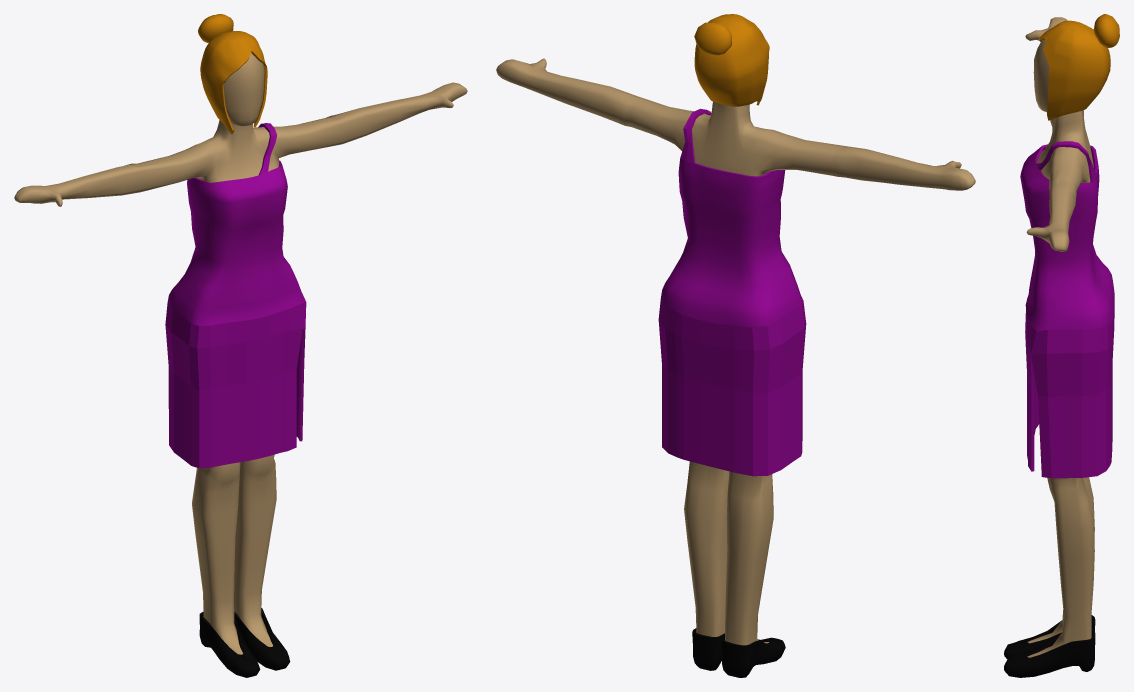
File: AsiakasNoRigTpose.fbx
3 views of the same model, side by side, from view 1: azimuth 30°, elevation 25°; view 2: azimuth 150°, elevation 25°; view 3: azimuth 270°, elevation 25° (orthographic). The views are drawn at different scales.
Parts seen in each view (by area): view 1: Dress, body, Hair, Shoes; view 2: Dress, body, Hair, Shoes; view 3: Dress, body, Hair, Shoes.
Boxes of the visible parts, <box> form: Dress: <box>165,123,306,468</box>; body: <box>14,53,467,654</box>; Hair: <box>198,14,267,134</box>; Shoes: <box>199,608,290,677</box>; Dress: <box>658,108,806,476</box>; body: <box>496,58,975,645</box>; Hair: <box>694,14,769,106</box>; Shoes: <box>692,628,785,677</box>; Dress: <box>1020,141,1114,478</box>; body: <box>1025,17,1094,657</box>; Hair: <box>1038,14,1119,120</box>; Shoes: <box>1004,615,1095,677</box>.
Size of the model in its own units: 144 by 192 by 31.03.
